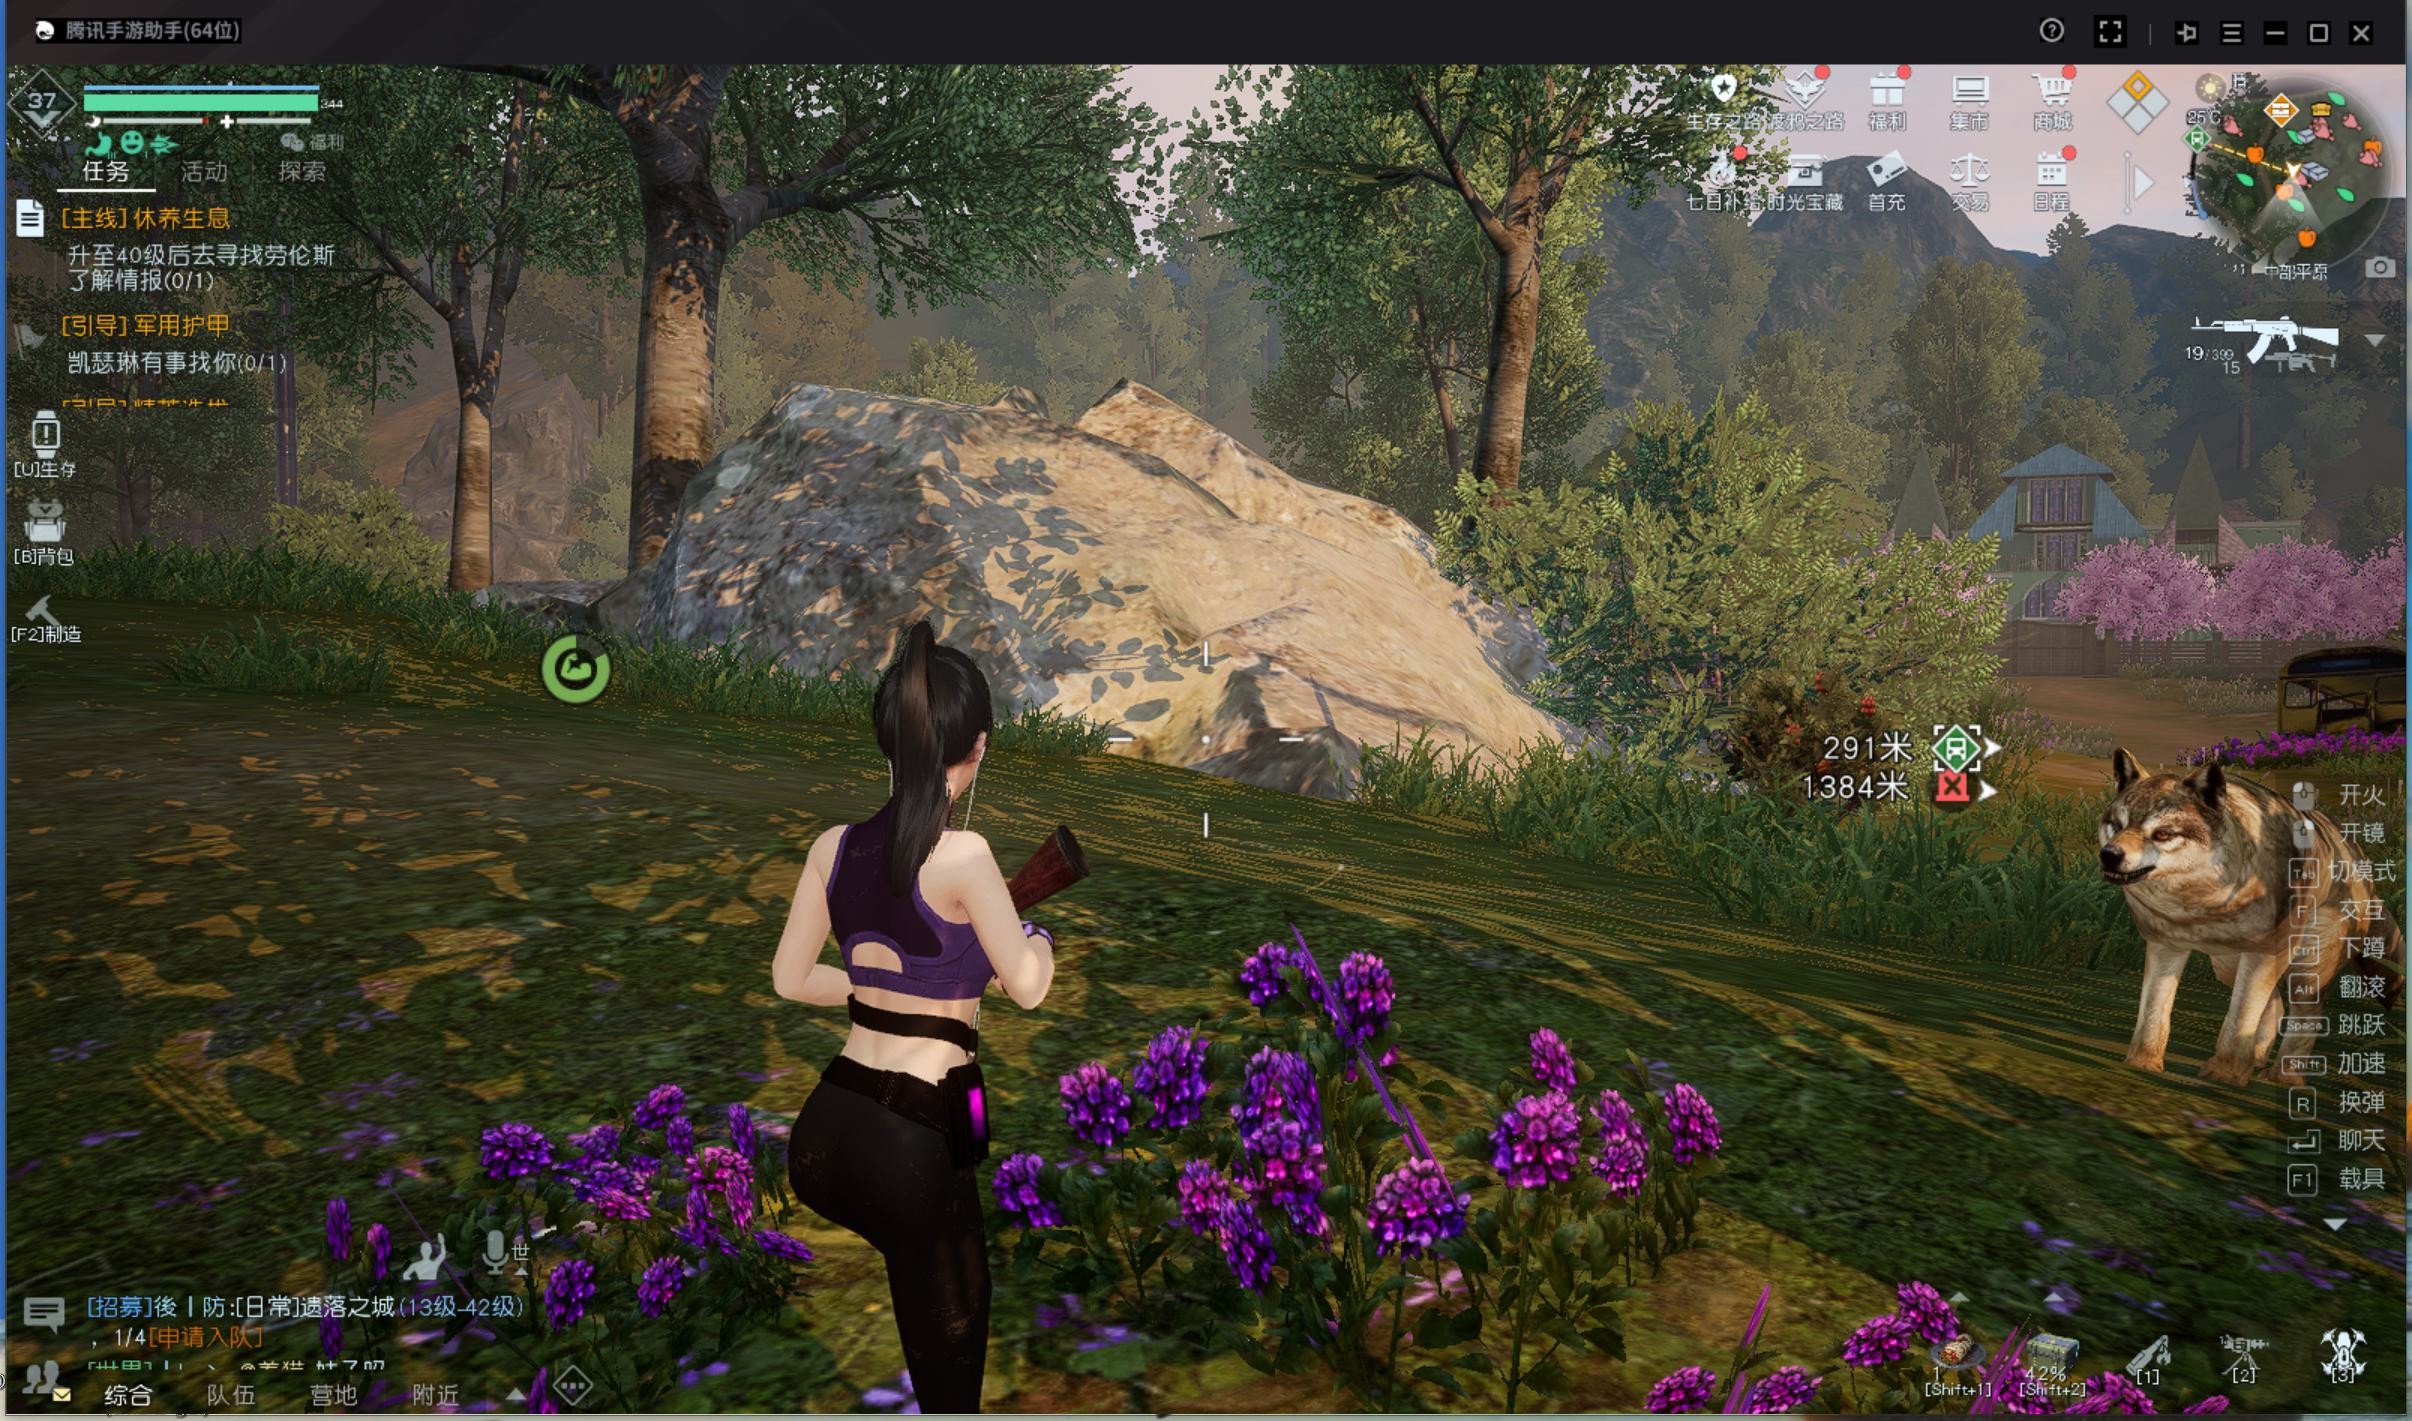tree: (612, 267, 726, 631), (1465, 223, 1548, 582), (436, 365, 497, 626)
